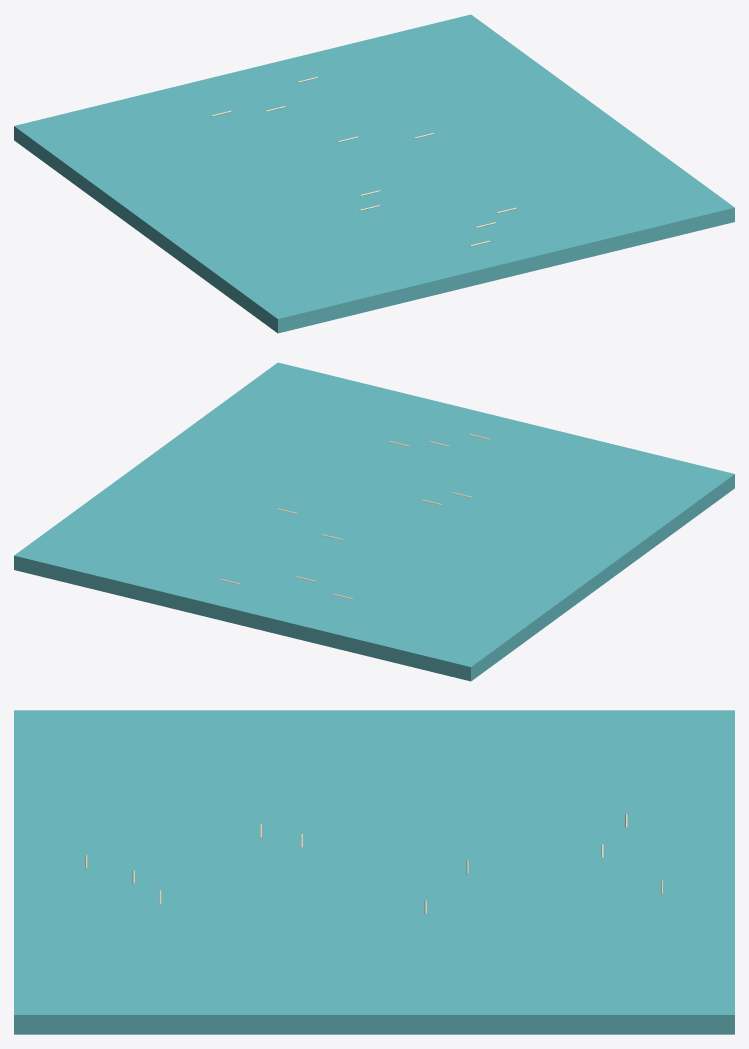
Rendered from lake_water_tile_quiet_lake_fishing_22422.glb.
The picture shows the model from 3 angles, top to bottom: view 1: azimuth 30°, elevation 25°; view 2: azimuth 150°, elevation 25°; view 3: azimuth 270°, elevation 25°; orthographic projection. The views are drawn at different scales.
Visible parts, largest first — view 1: water; view 2: water; view 3: water.
Part boxes in pixels (<box>): water: <box>14,14,734,333</box>; water: <box>14,362,734,681</box>; water: <box>14,710,734,1034</box>.
Size of the model in its own units: 6 by 0.193 by 6.
